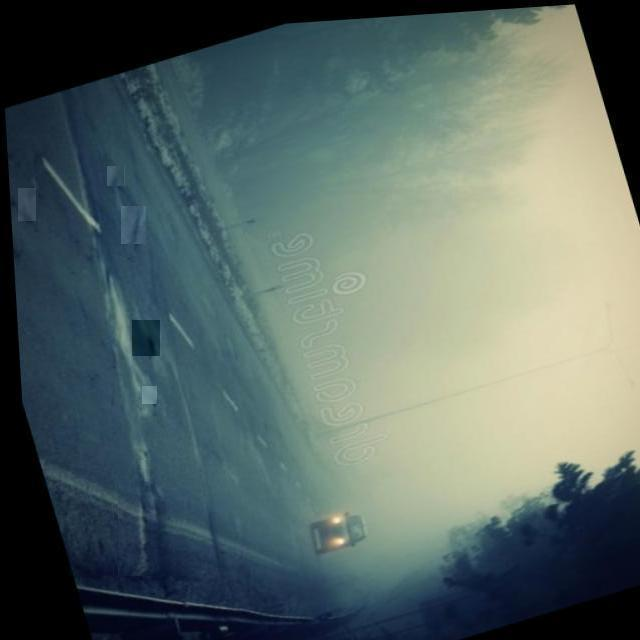Pothole: (118, 460, 184, 576), (132, 320, 160, 356), (121, 206, 146, 244), (18, 188, 36, 221), (108, 166, 126, 186), (142, 386, 157, 404)
